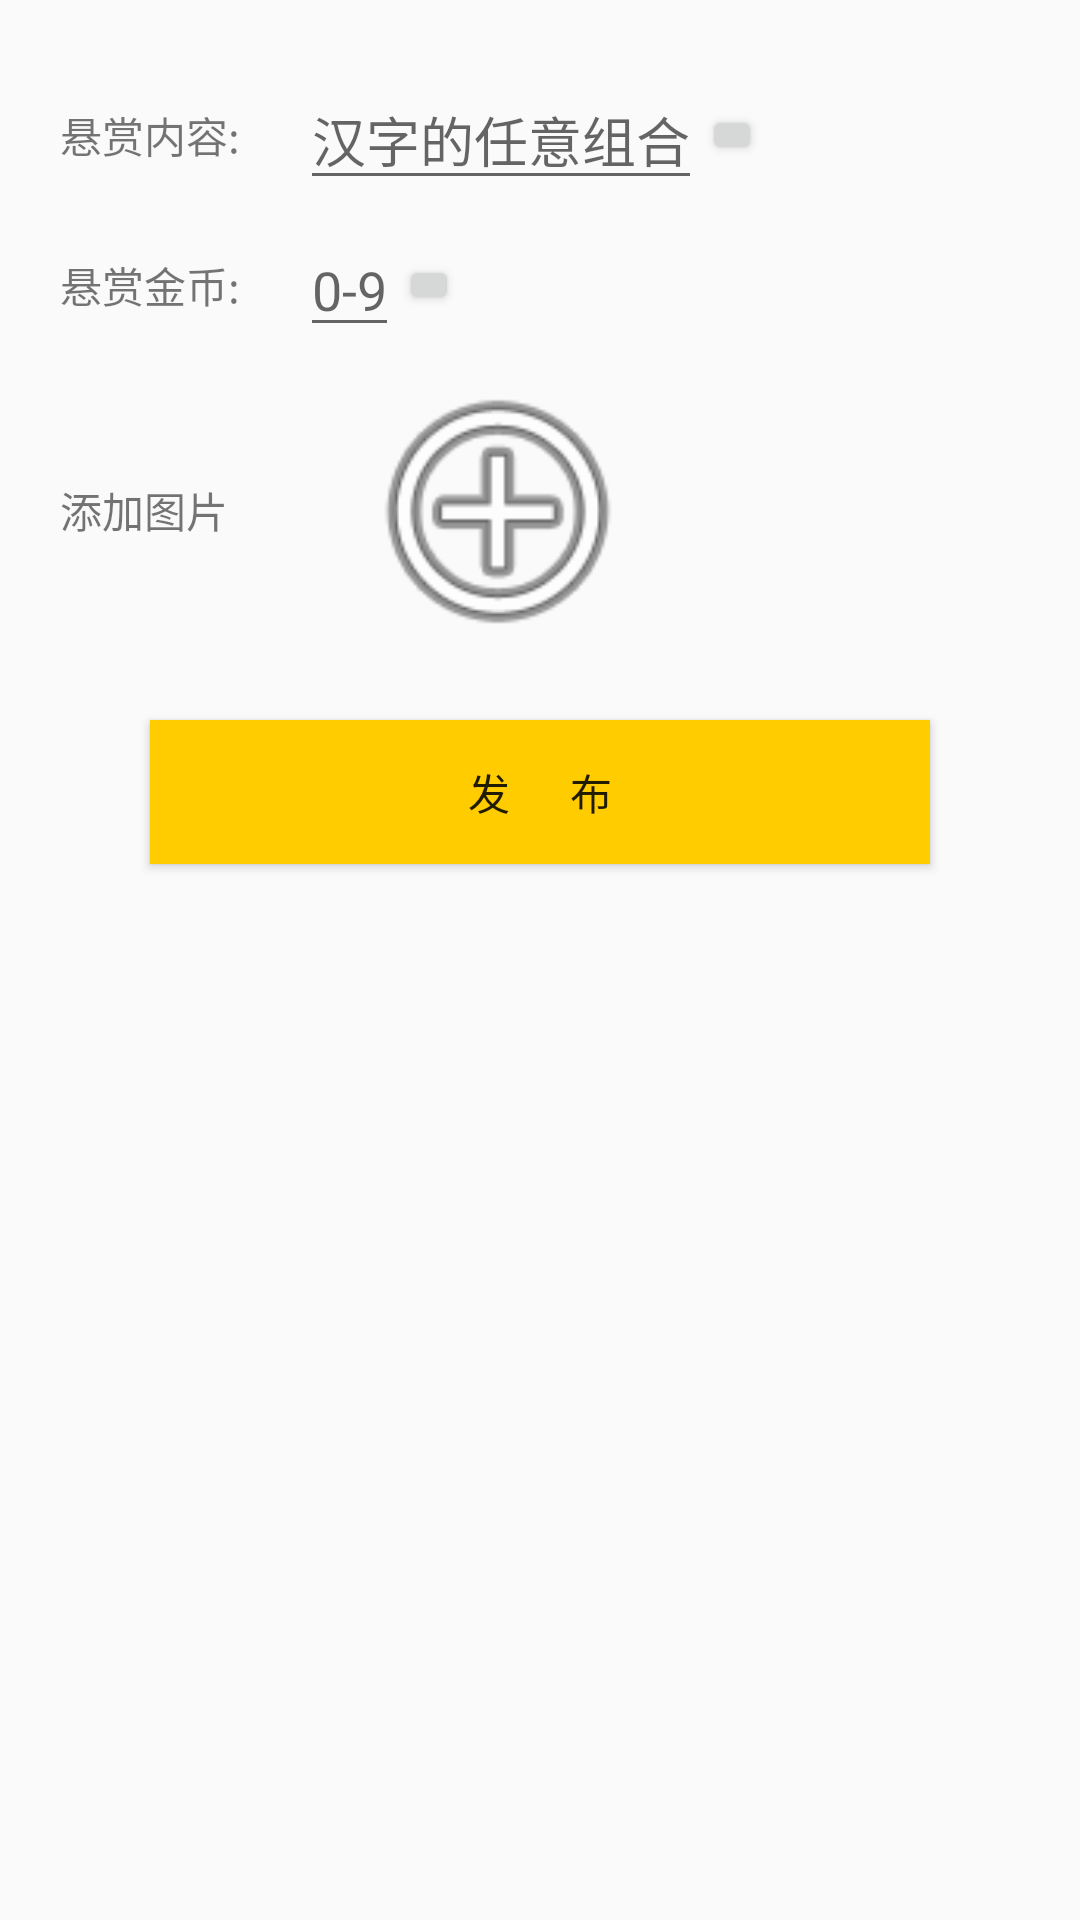

Icon bounding boxes for this 1080x1920 phone screenshot, format (x1=x1, y1=y1, x2=x2, y2=y2):
add: (x1=386, y1=400, x2=610, y2=623)
